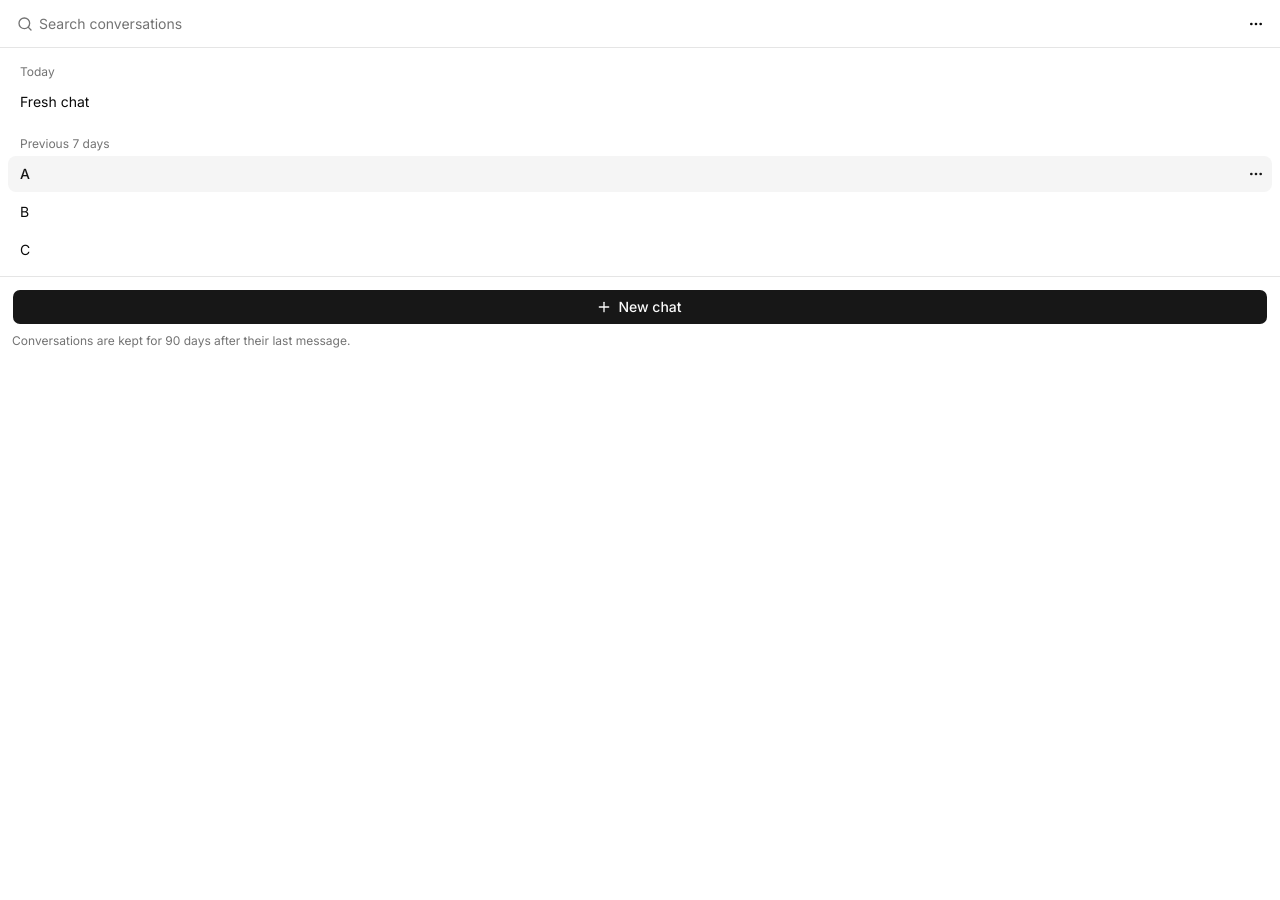
Test: N-11: "Delete all" counts the merged list (AC-37) › names server total + 1 when a just-announced row is merged in
Expected: the link "Fresh chat" is shown, [20,93,89,110]
Click the button named "Conversation actions" at (1256, 24), box [1240,8,1272,40]
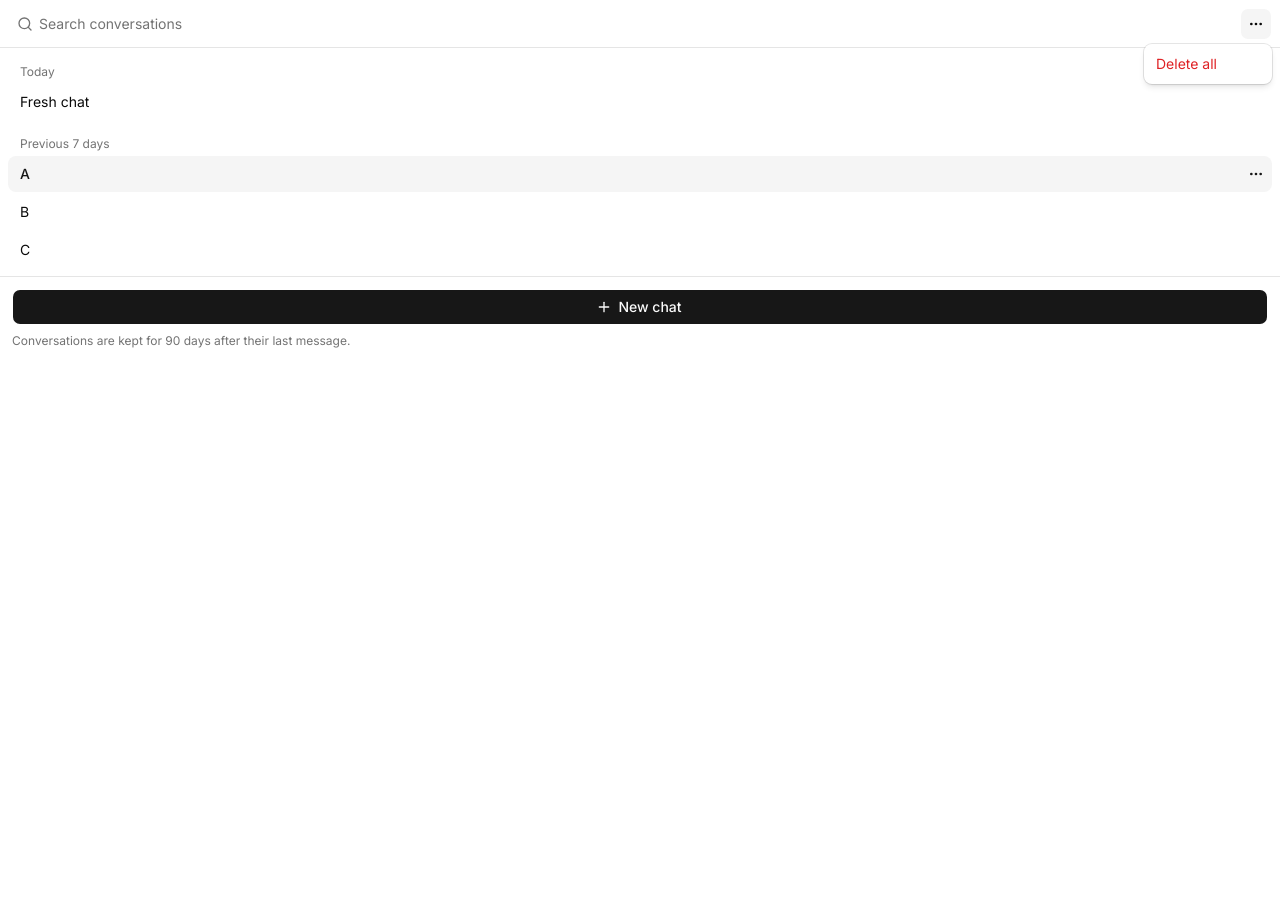
Click the menu item "Delete all" at (1186, 64), box [1156,55,1217,72]
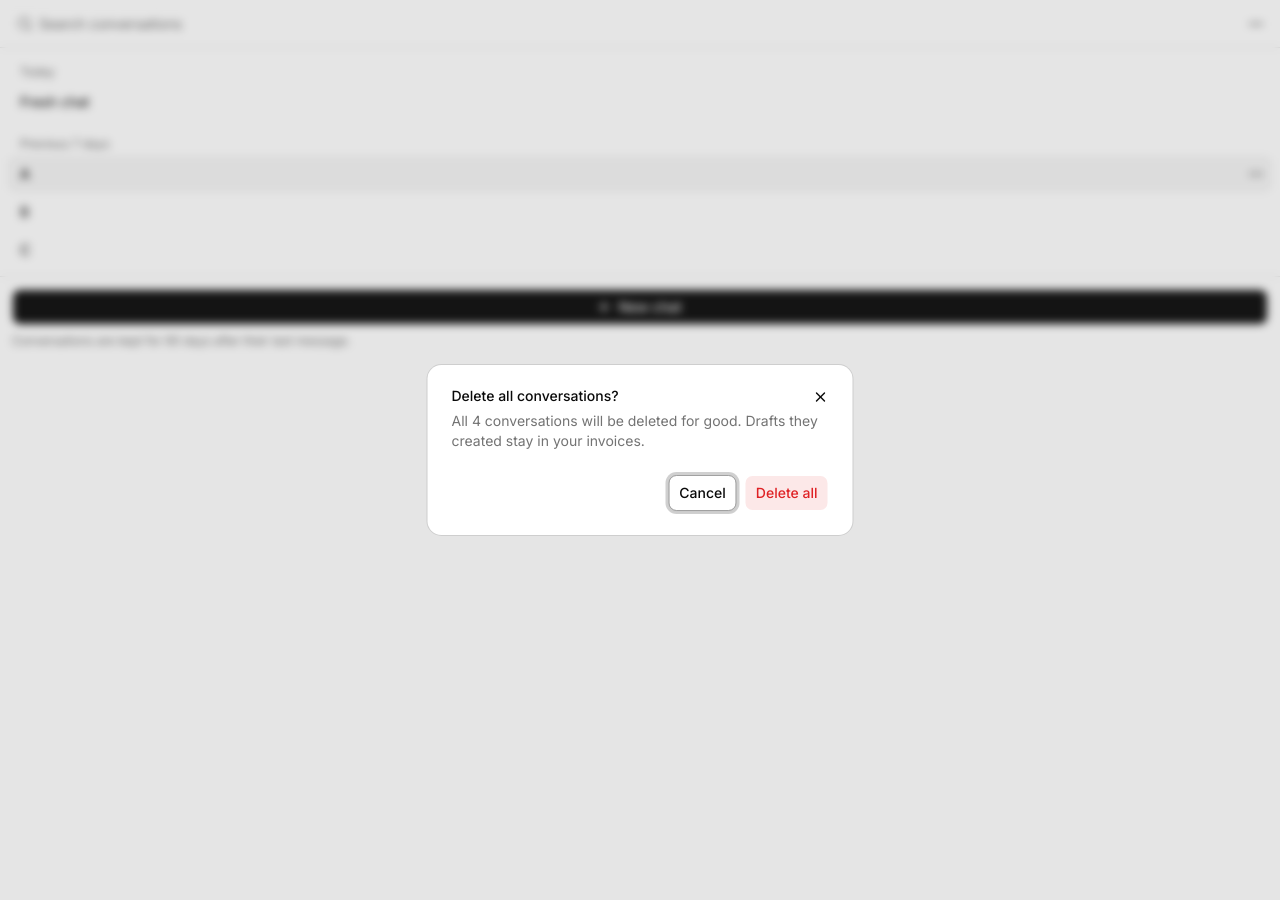
Result: the text "All 4 conversations will be deleted" is shown at [452,412,818,449]
